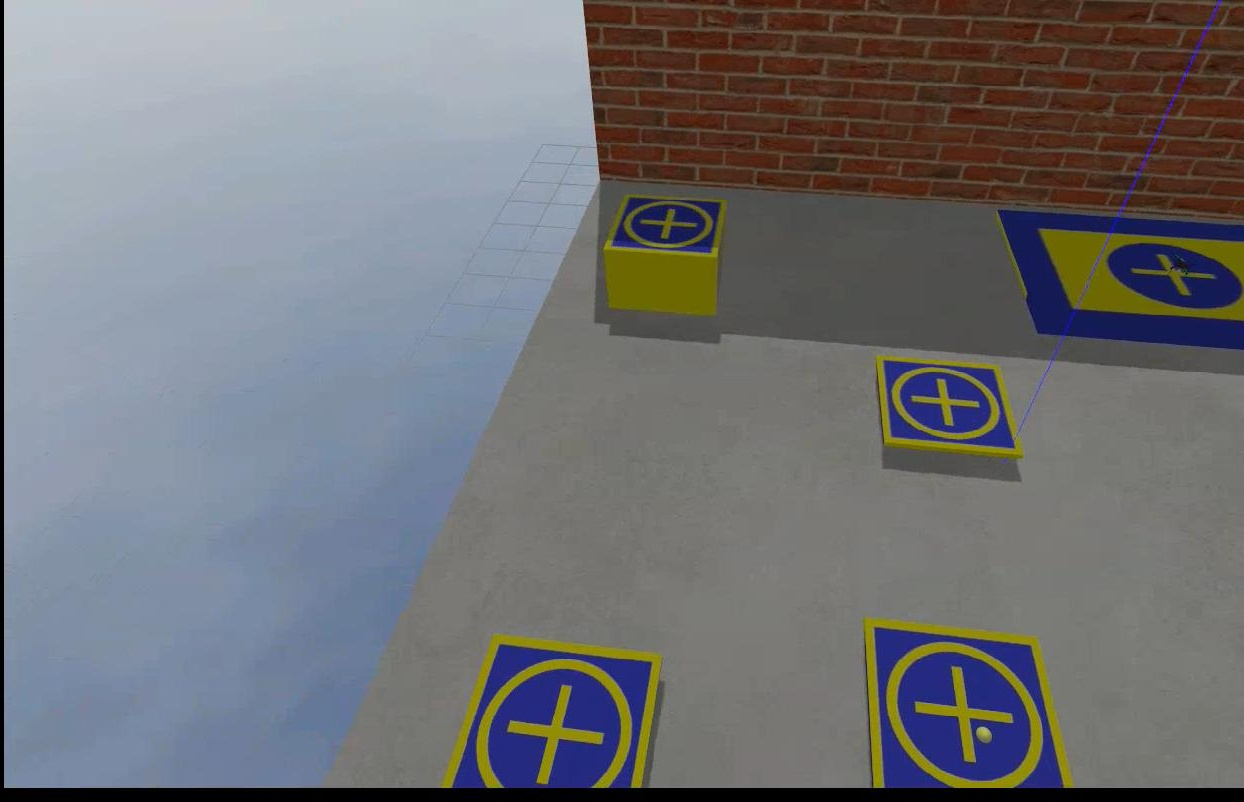large_base: (995, 211, 1242, 349)
small_base: (861, 623, 1072, 789), (444, 632, 661, 788), (873, 353, 1023, 460), (598, 192, 724, 261)
